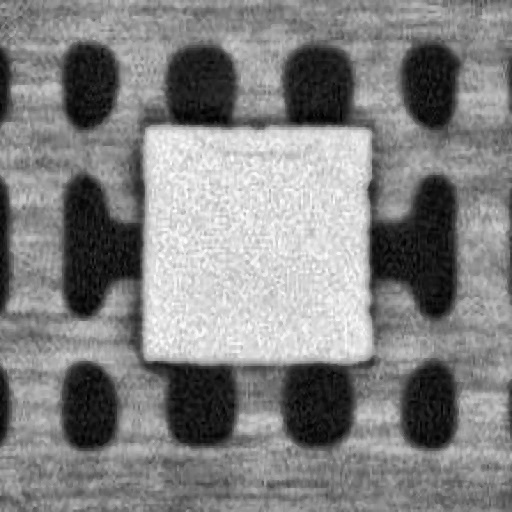DIE_CRACK: (214, 135, 321, 162)
